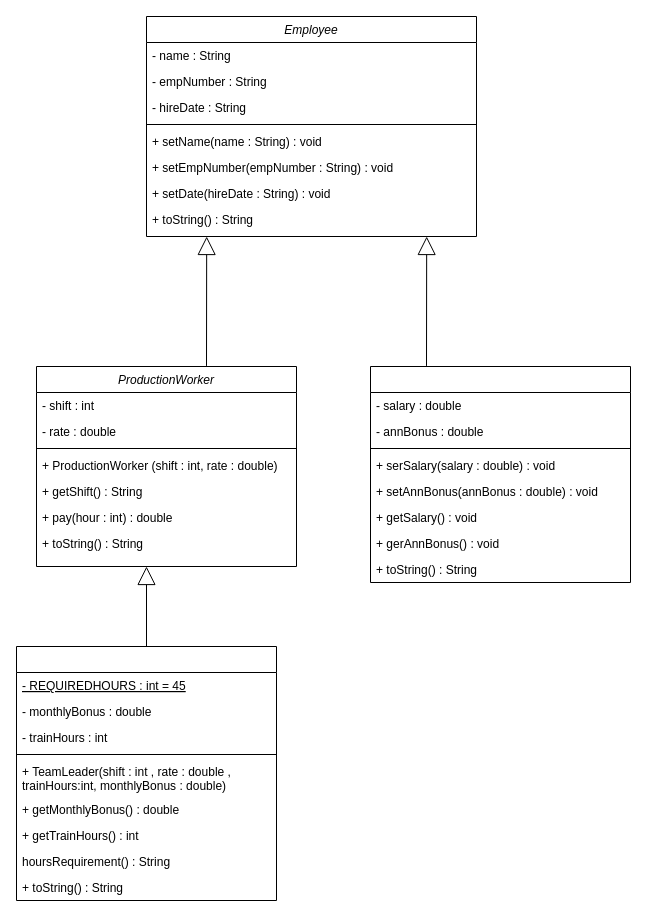
This 647x917 diagram has some shape labels left out. The box of each missing label's shape, as (x1, y1, x2, y2) in pixels:
ShiftSupervisor: (370, 366, 630, 582)
TeamLeaader: (16, 646, 276, 900)
